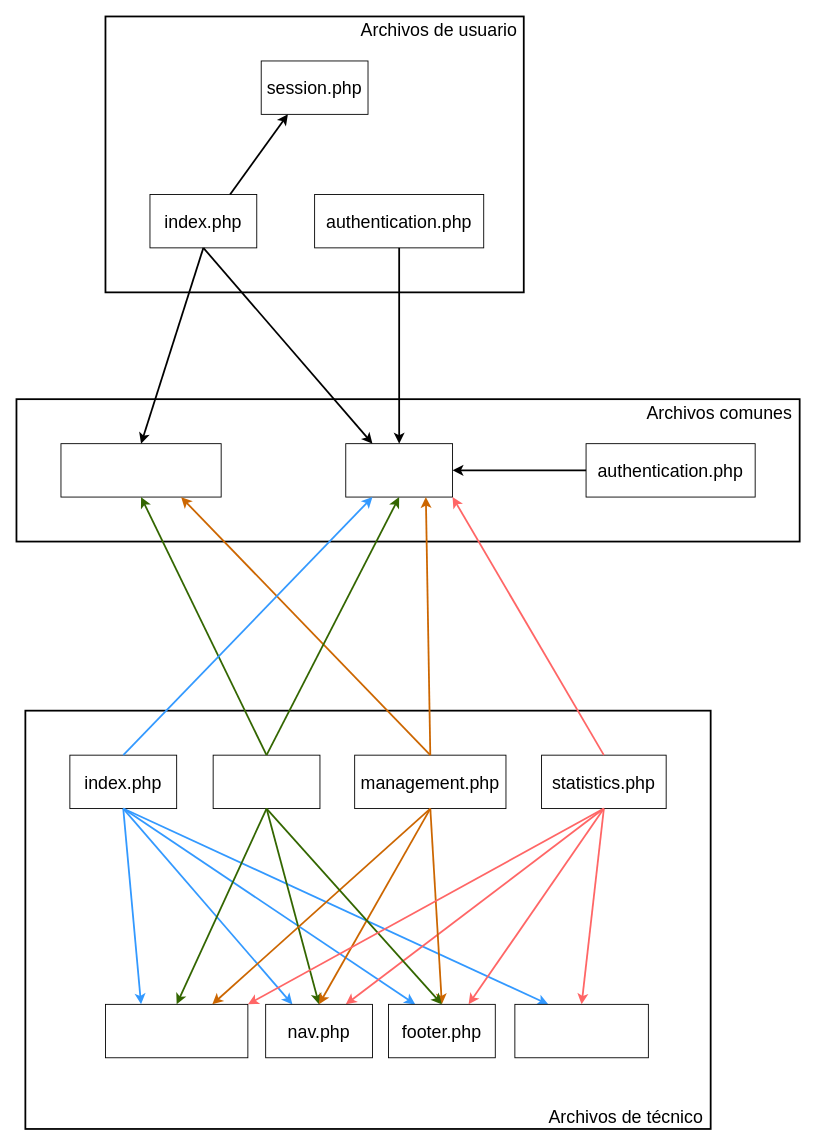
This 815x1145 diagram has some shape labels left out. Here are the shapes that lost their labels. From the top down, the centre of each, then its label:
At point (140, 470): "db_functions.php".
At point (399, 470): "config.php".
At point (266, 781): "issues.php".
At point (176, 1030): "sessionTec.php".
At point (581, 1030): "json_query.php".
